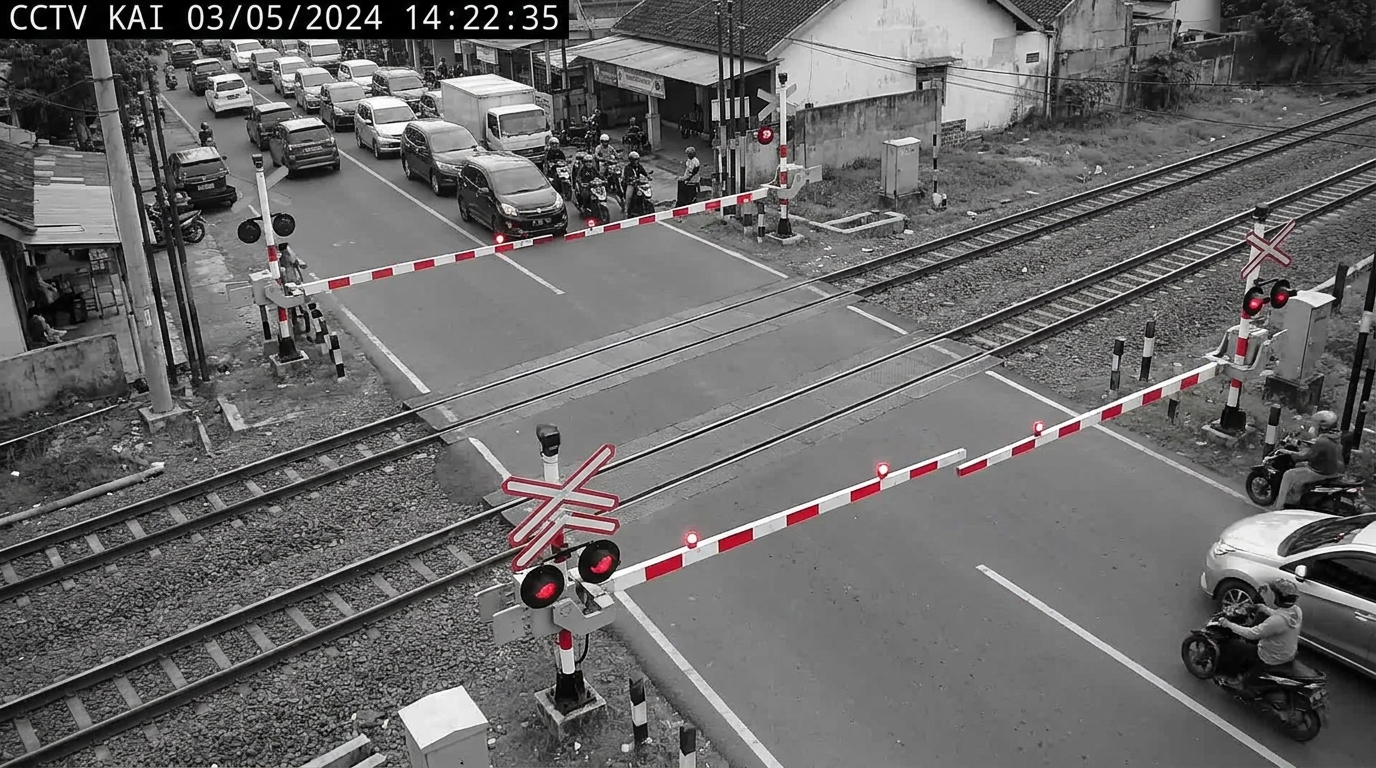safe: (613, 450, 964, 588), (957, 363, 1222, 476), (300, 235, 559, 294), (563, 189, 765, 240)
